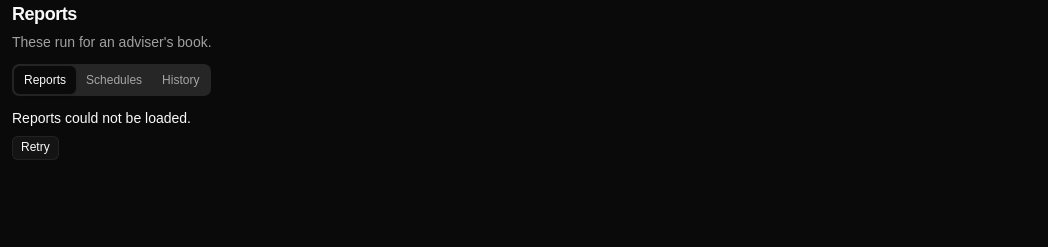
ReportsPage › retries a failed book report list
Expected: the text "Reports could not be loaded." is shown, x1=12 y1=108 x2=191 y2=128
Click the button "Retry".
click(35, 148)  # box x1=12 y1=136 x2=59 y2=160
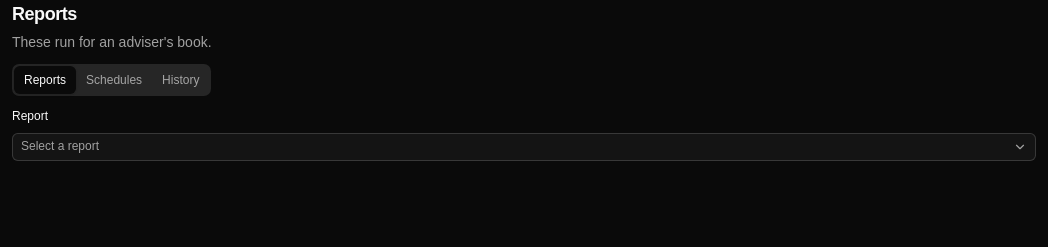
Click the dropdown labelled "report".
click(60, 146)  # box x1=12 y1=132 x2=1036 y2=160
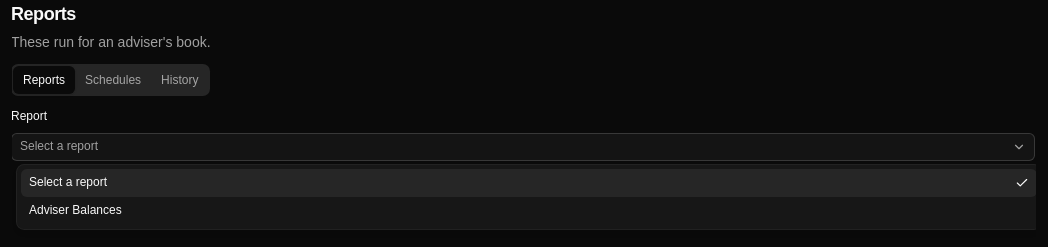
Now the option "Adviser Balances" is shown, box x1=29 y1=203 x2=122 y2=217
